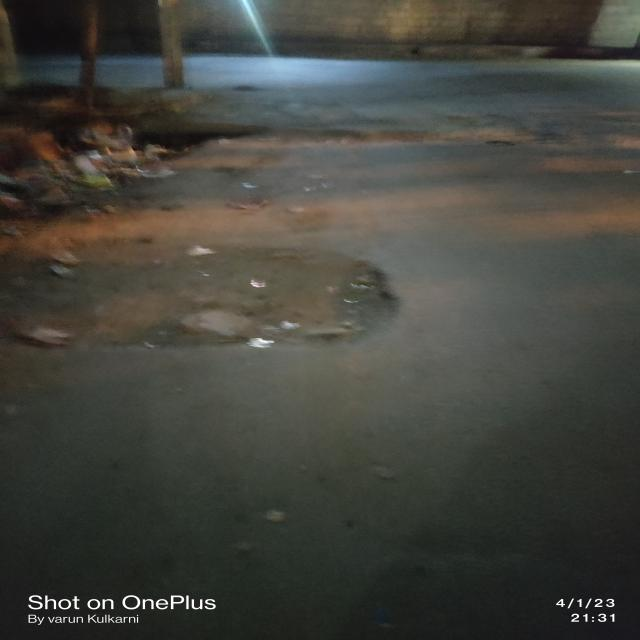potholes: (6, 234, 416, 360)
